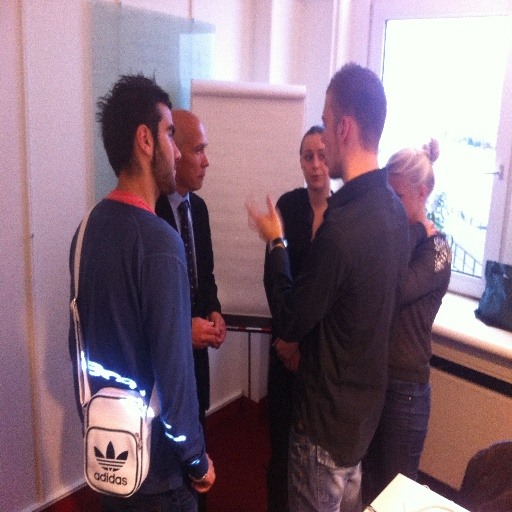hand: (245, 193, 294, 249), (191, 451, 217, 494), (190, 313, 219, 351), (207, 310, 227, 351), (272, 337, 299, 365), (411, 213, 437, 239), (286, 348, 300, 372)
